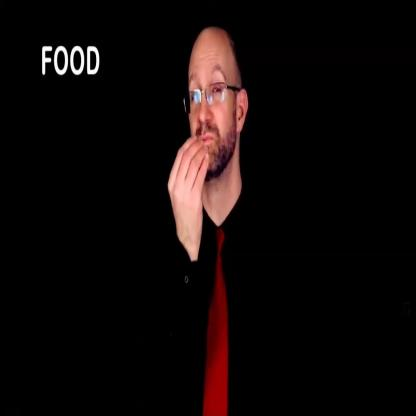Food: (157, 22, 274, 414)
